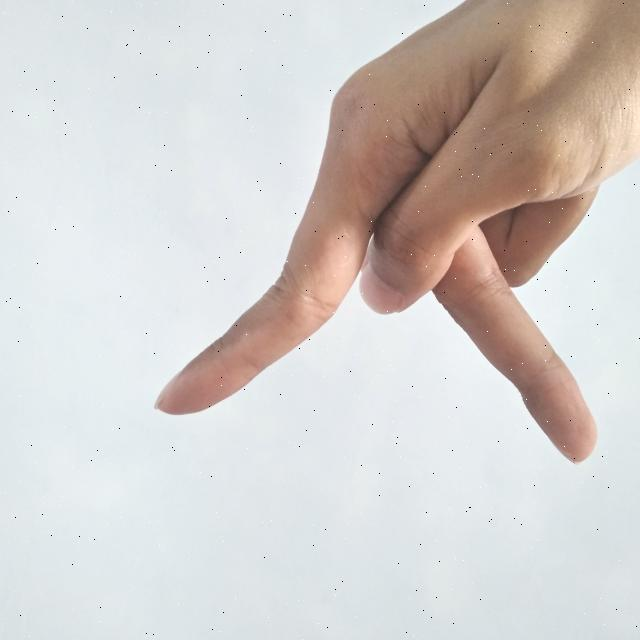P: (132, 0, 614, 482)
